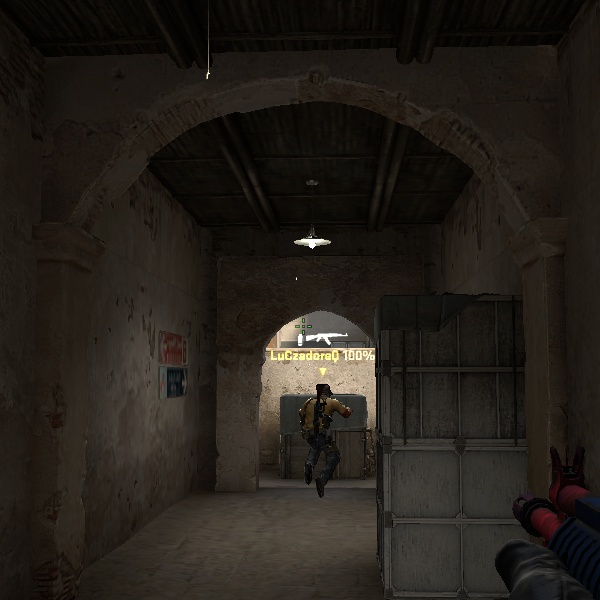t_body: (295, 381, 352, 498)
t_head: (316, 382, 333, 400)
